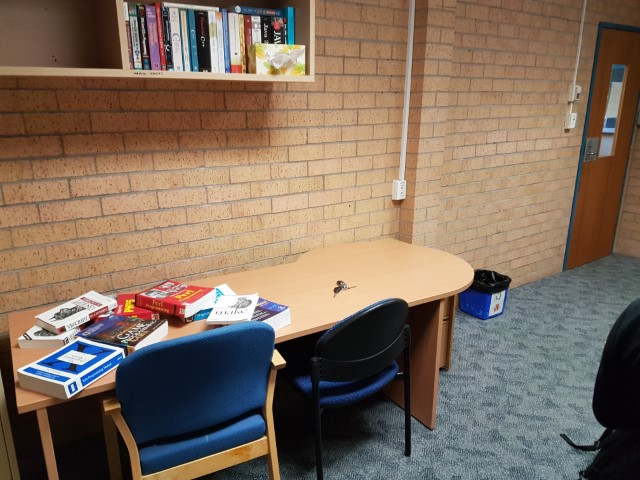key: (332, 286, 342, 299)
